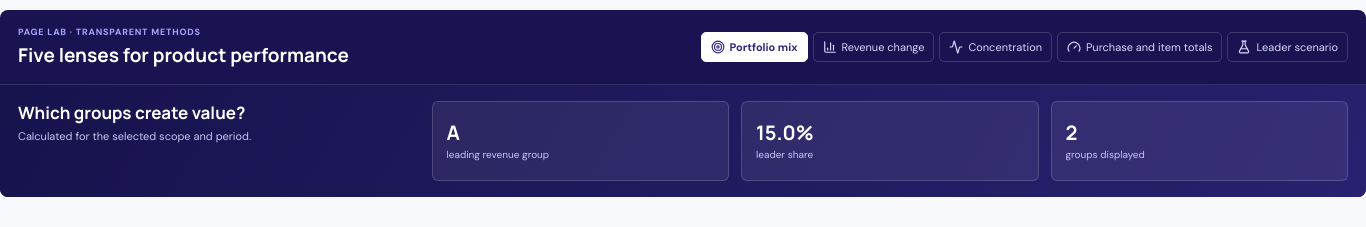
Bilingual lens presentation › uses runtime revenue and purchase records with full product mart totals, never top-20 order sums
Click the tab "Purchase and item totals": (1140, 47) 1057,32 -> 1222,62
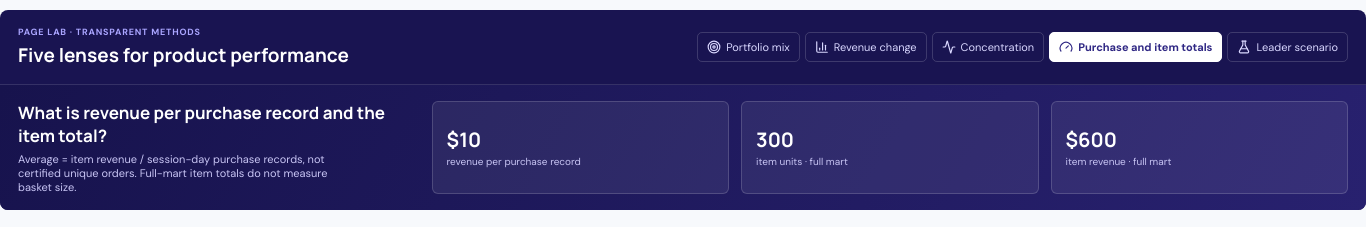
Check: the text "revenue per purchase record" is shown, box 447,154 -> 581,168
Check: the text "item units · full mart" is shown, box 756,154 -> 848,168
Check: the text "item revenue · full mart" is shown, box 1066,154 -> 1171,168
